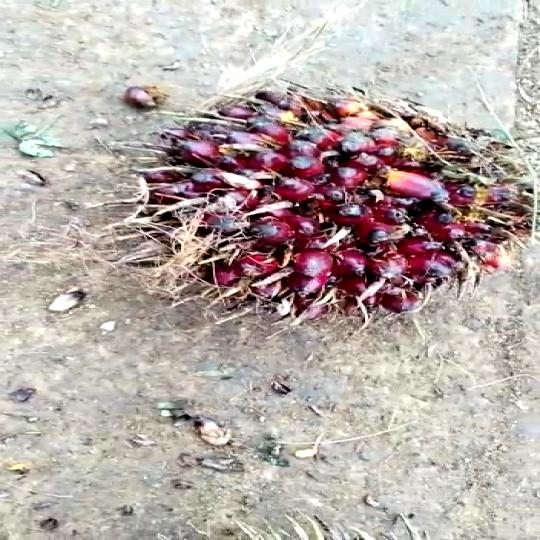kurang masak: (124, 56, 540, 328)
